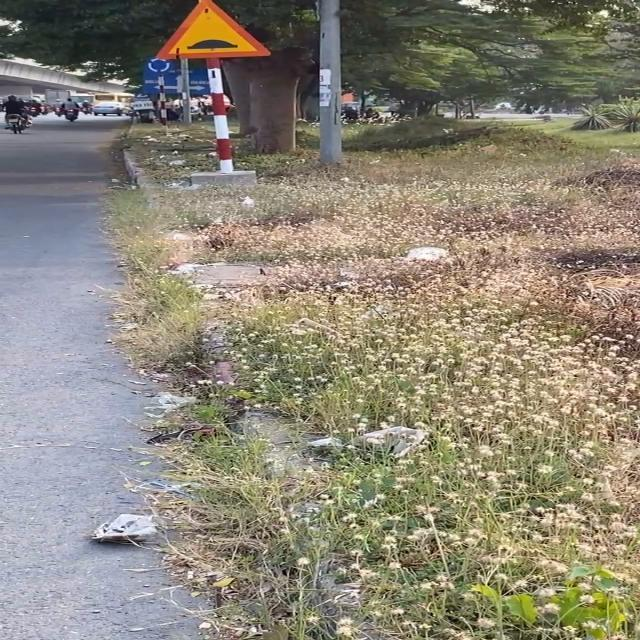221-duong-go-ghe: (152, 0, 272, 60)
303-noi-giao-nhau-chay-theo-vong-xuyen: (146, 56, 174, 74)
